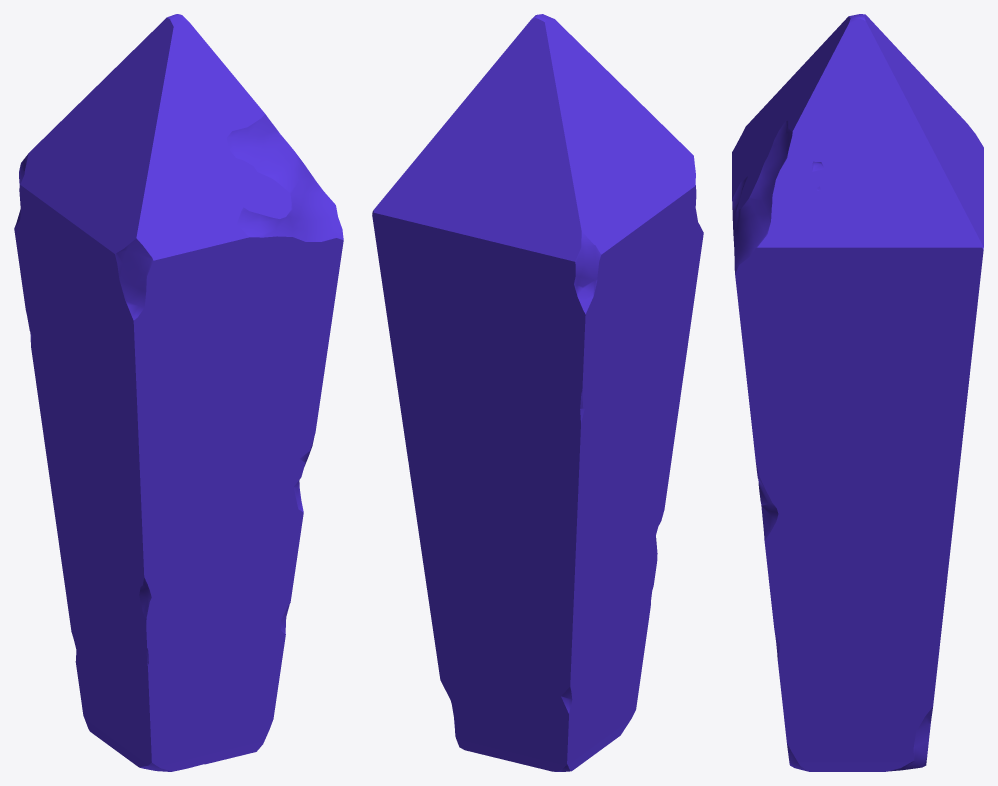
Rendered from crystalLonely-SP.fbx.
3 views of the same model, side by side, from view 1: azimuth 30°, elevation 25°; view 2: azimuth 150°, elevation 25°; view 3: azimuth 270°, elevation 25° (orthographic).
Visible parts, largest first — view 1: Cube.014_dmg; view 2: Cube.014_dmg; view 3: Cube.014_dmg.
Boxes of the visible parts, x1,y1,x2,y2 form: Cube.014_dmg: (14,14,343,771); Cube.014_dmg: (372,14,703,771); Cube.014_dmg: (732,14,983,771).
Size of the model in its own units: 62.45 by 199 by 62.45.
